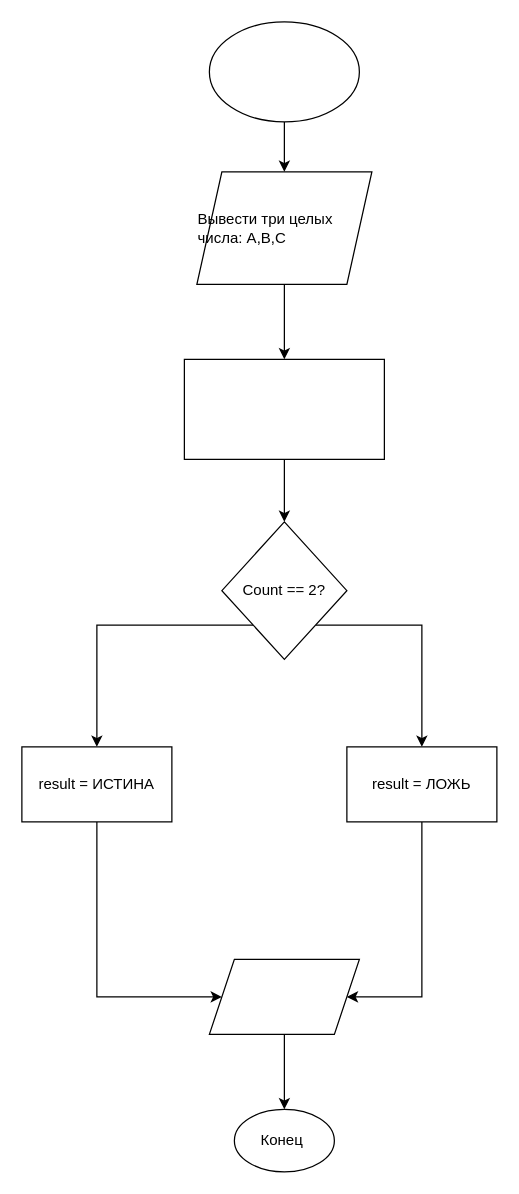
This 519x1194 diagram has some shape labels left out. The box of each missing label's shape, as (x1, y1, x2, y2) in pixels:
Вывести: result: (208, 958, 359, 1034)
Начало: (208, 21, 359, 122)
Посчитать количество положительных чисел: count = a>0 B>0 + C>0: (183, 358, 384, 459)
